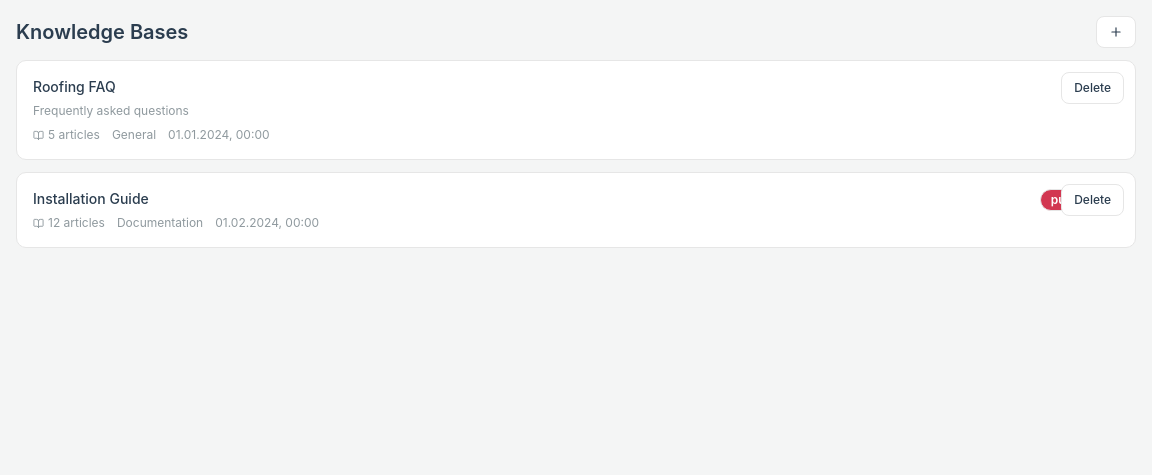
Scenario: MobileKnowledgeBases › create form closes when create button is clicked again
The image size is (1152, 475).
What coordinates should you click on to do the following:
click the button with test id "mobile-kb-create-button"
I would click on:
 (1116, 32)
Its box is [1096,16,1136,48].
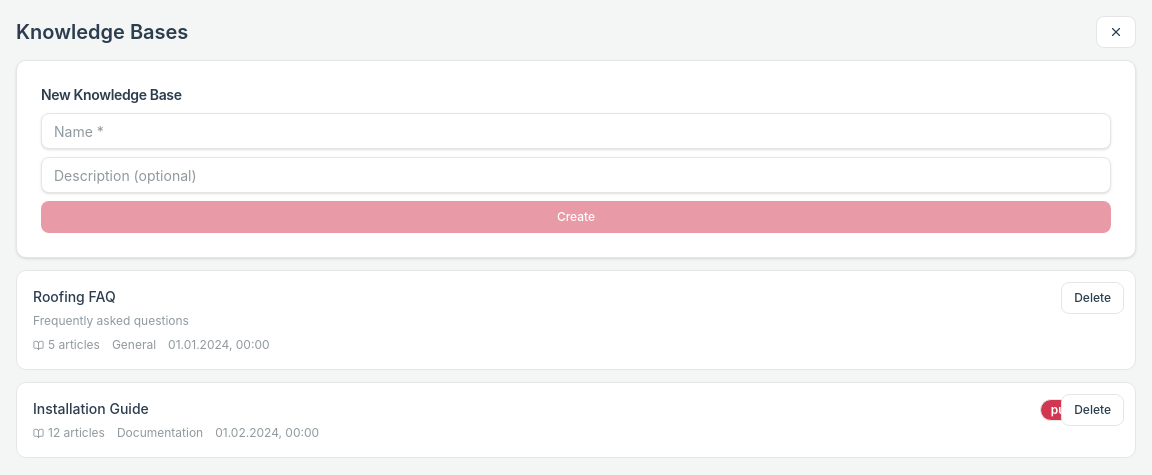
What coordinates should you click on to do the following:
click the button with test id "mobile-kb-create-button"
I would click on:
 (1116, 32)
Its box is [1096,16,1136,48].
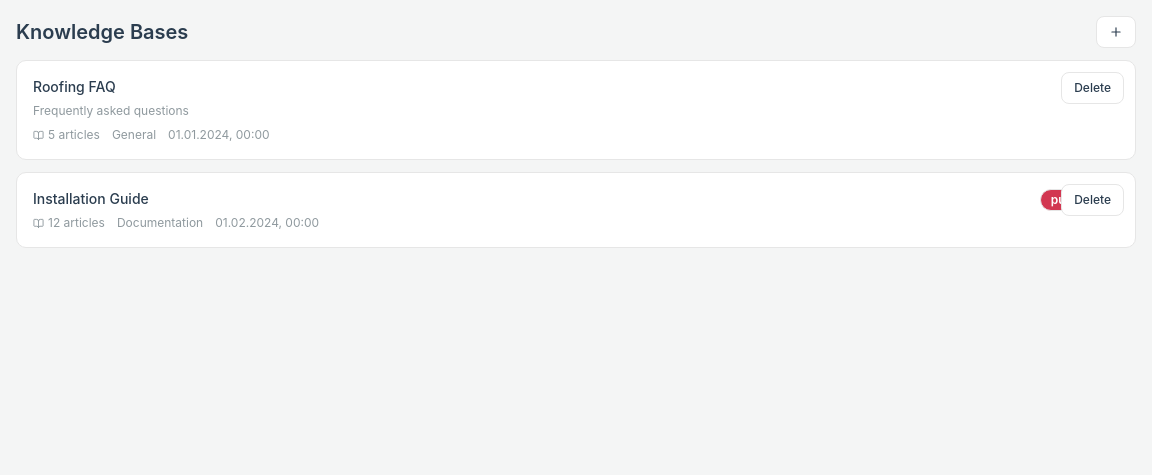
Result: the element with test id "mobile-kb-create-form" is gone
